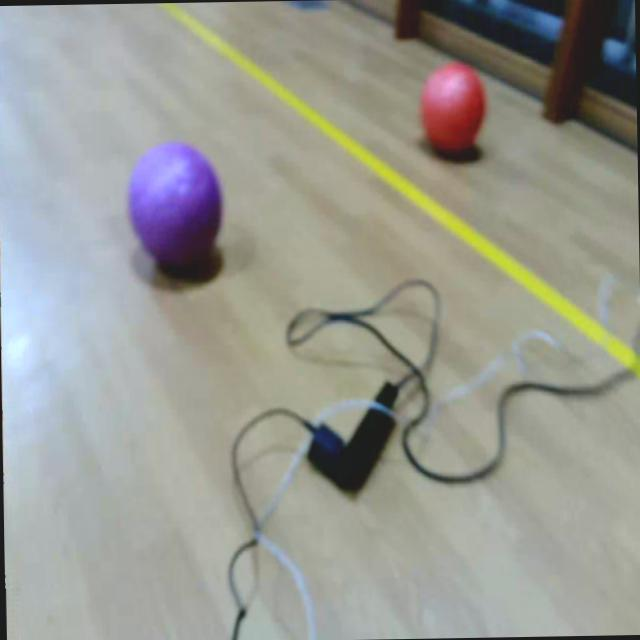purple_ball: (126, 140, 222, 264)
red_ball: (421, 60, 488, 155)
